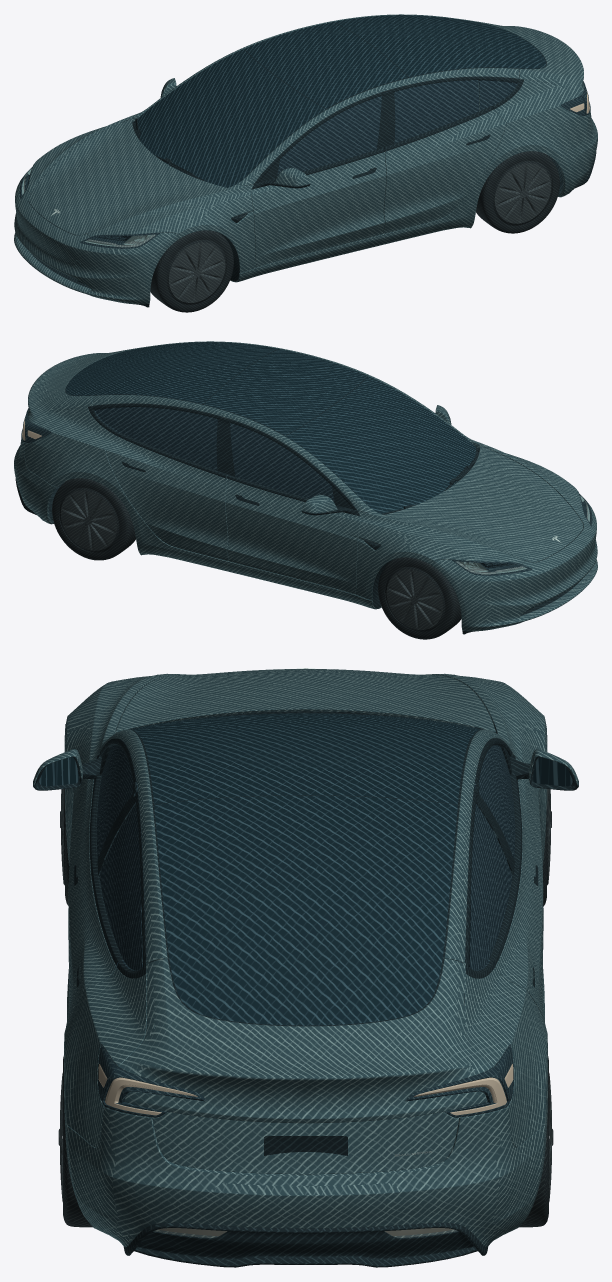
The model's file is tesla-model-3.glb.
3 renders of one model, top to bottom at view 1: azimuth 30°, elevation 25°; view 2: azimuth 150°, elevation 25°; view 3: azimuth 270°, elevation 25°, orthographic. The views are drawn at different scales.
Visible parts, largest first — view 1: windshield, hood, door_front_L, door_rear_L, bumper_front, rear_glass, roof_glass, quarter_rear_L, fender_front_L, glass_front_L, glass_rear_L, roof_rail_L (+13 smaller); view 2: windshield, hood, door_front_R, door_rear_R, bumper_front, rear_glass, roof_glass, quarter_rear_R, fender_front_R, glass_front_R, glass_rear_R, roof_rail_R (+14 smaller); view 3: rear_glass, trunk_lid, bumper_rear, roof_glass, hood, quarter_rear_L, quarter_rear_R, roof_rail_L, roof_rail_R, door_rear_L, door_rear_R, fender_front_L (+17 smaller).
Boxes of the visible parts, x1=… form: windshield: x1=133, y1=49, x2=325, y2=187; hood: x1=28, y1=118, x2=226, y2=235; door_front_L: x1=251, y1=147, x2=386, y2=267; door_rear_L: x1=383, y1=106, x2=506, y2=233; bumper_front: x1=14, y1=172, x2=239, y2=307; rear_glass: x1=334, y1=15, x2=546, y2=78; roof_glass: x1=244, y1=22, x2=408, y2=112; quarter_rear_L: x1=237, y1=74, x2=587, y2=226; fender_front_L: x1=86, y1=184, x2=255, y2=273; glass_front_L: x1=277, y1=96, x2=381, y2=176; glass_rear_L: x1=394, y1=80, x2=478, y2=143; roof_rail_L: x1=238, y1=68, x2=524, y2=185; windshield: x1=286, y1=376, x2=478, y2=513; hood: x1=385, y1=445, x2=583, y2=562; door_front_R: x1=225, y1=474, x2=360, y2=594; door_rear_R: x1=105, y1=433, x2=228, y2=560; bumper_front: x1=372, y1=499, x2=597, y2=634; rear_glass: x1=65, y1=342, x2=277, y2=405; roof_glass: x1=203, y1=349, x2=367, y2=439; quarter_rear_R: x1=24, y1=401, x2=374, y2=553; fender_front_R: x1=356, y1=511, x2=525, y2=600; glass_front_R: x1=230, y1=423, x2=334, y2=503; glass_rear_R: x1=133, y1=407, x2=217, y2=470; roof_rail_R: x1=87, y1=395, x2=373, y2=512; rear_glass: x1=152, y1=795, x2=459, y2=1026; trunk_lid: x1=104, y1=957, x2=507, y2=1176; bumper_rear: x1=65, y1=1107, x2=546, y2=1267; roof_glass: x1=139, y1=724, x2=472, y2=804; hood: x1=116, y1=668, x2=496, y2=733; quarter_rear_L: x1=64, y1=752, x2=154, y2=1147; quarter_rear_R: x1=457, y1=733, x2=547, y2=1147; roof_rail_L: x1=99, y1=729, x2=167, y2=978; roof_rail_R: x1=444, y1=729, x2=512, y2=978; door_rear_L: x1=66, y1=867, x2=123, y2=1026; door_rear_R: x1=488, y1=867, x2=544, y2=1022; fender_front_L: x1=64, y1=673, x2=185, y2=865.
Bounding box in the file's own units: 4.72 × 1.41 × 2.09.
Materials: 12 (8 with a texture image).
